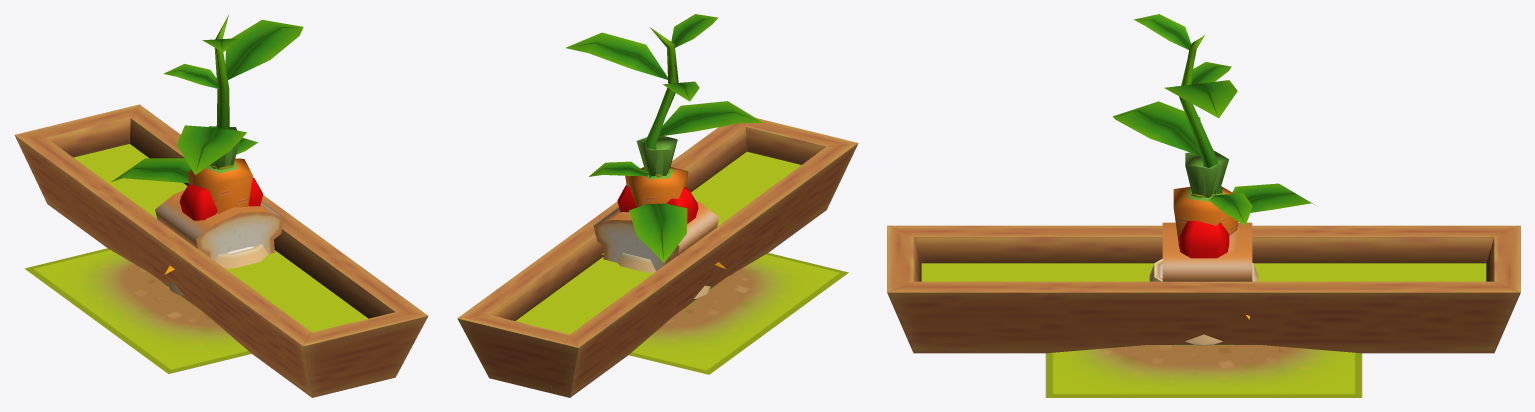
The model's file is products.glb.
The picture shows the model from 3 angles, left to right: view 1: azimuth 30°, elevation 25°; view 2: azimuth 150°, elevation 25°; view 3: azimuth 270°, elevation 25°; orthographic projection. The views are drawn at different scales.
Visible parts, largest first — view 1: tomato_plant_a_mod, wheat_plant_b_mod, bread_mod, carrot_plant_mod, ketchup_mod, flour_mod; view 2: tomato_plant_a_mod, wheat_plant_b_mod, bread_mod, carrot_plant_mod, ketchup_mod, flour_mod; view 3: tomato_plant_a_mod, wheat_plant_b_mod, bread_mod, carrot_plant_mod, ketchup_mod, flour_mod.
Part boxes in pixels (x1=…): tomato_plant_a_mod: x1=14, y1=15, x2=428, y2=397; wheat_plant_b_mod: x1=24, y1=248, x2=251, y2=374; bread_mod: x1=155, y1=189, x2=284, y2=260; carrot_plant_mod: x1=187, y1=126, x2=252, y2=213; ketchup_mod: x1=179, y1=165, x2=263, y2=220; flour_mod: x1=167, y1=244, x2=268, y2=295; tomato_plant_a_mod: x1=457, y1=14, x2=858, y2=397; wheat_plant_b_mod: x1=629, y1=253, x2=848, y2=374; bread_mod: x1=593, y1=201, x2=718, y2=271; carrot_plant_mod: x1=625, y1=136, x2=688, y2=207; ketchup_mod: x1=617, y1=169, x2=698, y2=223; flour_mod: x1=617, y1=253, x2=710, y2=298; tomato_plant_a_mod: x1=887, y1=14, x2=1520, y2=353; wheat_plant_b_mod: x1=1045, y1=345, x2=1362, y2=397; bread_mod: x1=1162, y1=222, x2=1252, y2=281; carrot_plant_mod: x1=1173, y1=150, x2=1238, y2=241; ketchup_mod: x1=1178, y1=191, x2=1229, y2=258; flour_mod: x1=1149, y1=258, x2=1258, y2=346.
Bounding box in the file's own units: 2 × 2.1 × 4.
Materials: 1 (1 with a texture image).
